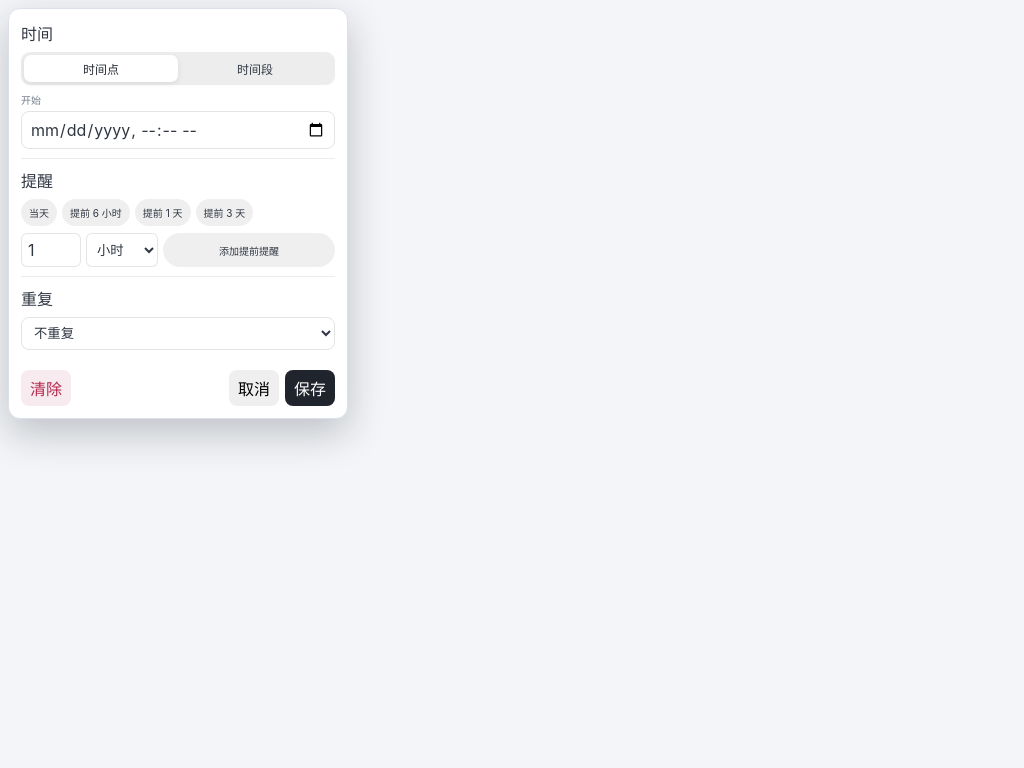
Test case: TaskSchedulePopover › explains why an invalid custom reminder was not added
Replace the text in the number field named "自定义提前数值" with "0" at {"x": 51, "y": 250}, box [21,233,81,267]
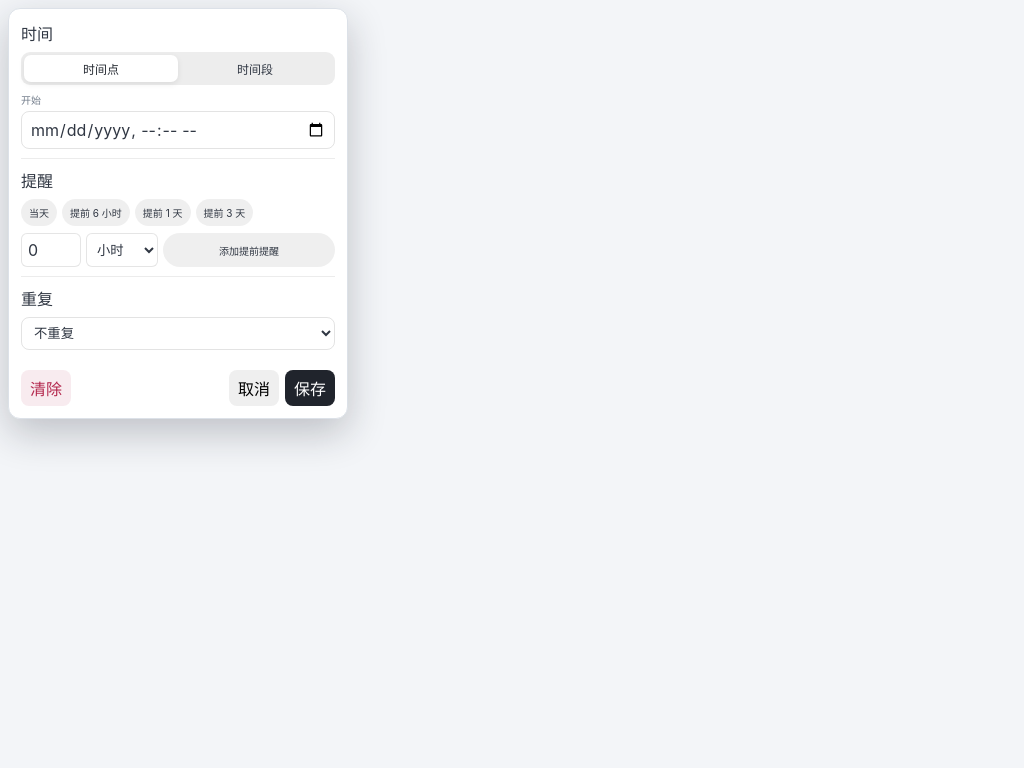
Click the button "添加提前提醒" at {"x": 249, "y": 250}, box [163,233,335,267]
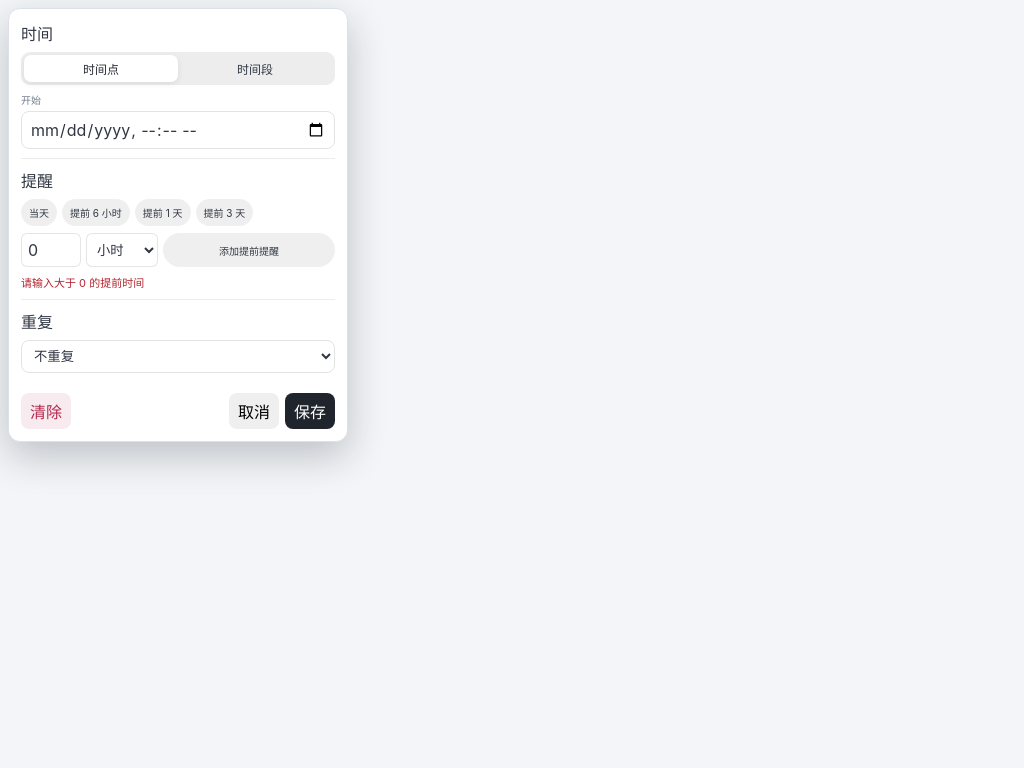
Expected: the text "请输入大于 0 的提前时间" is shown, [21,276,144,290]
